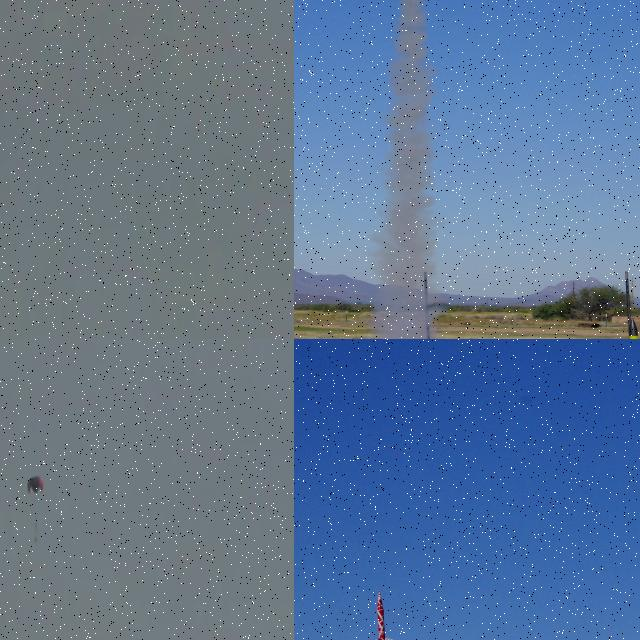Rocket: (370, 589, 394, 640), (621, 317, 640, 339), (35, 519, 37, 544)
